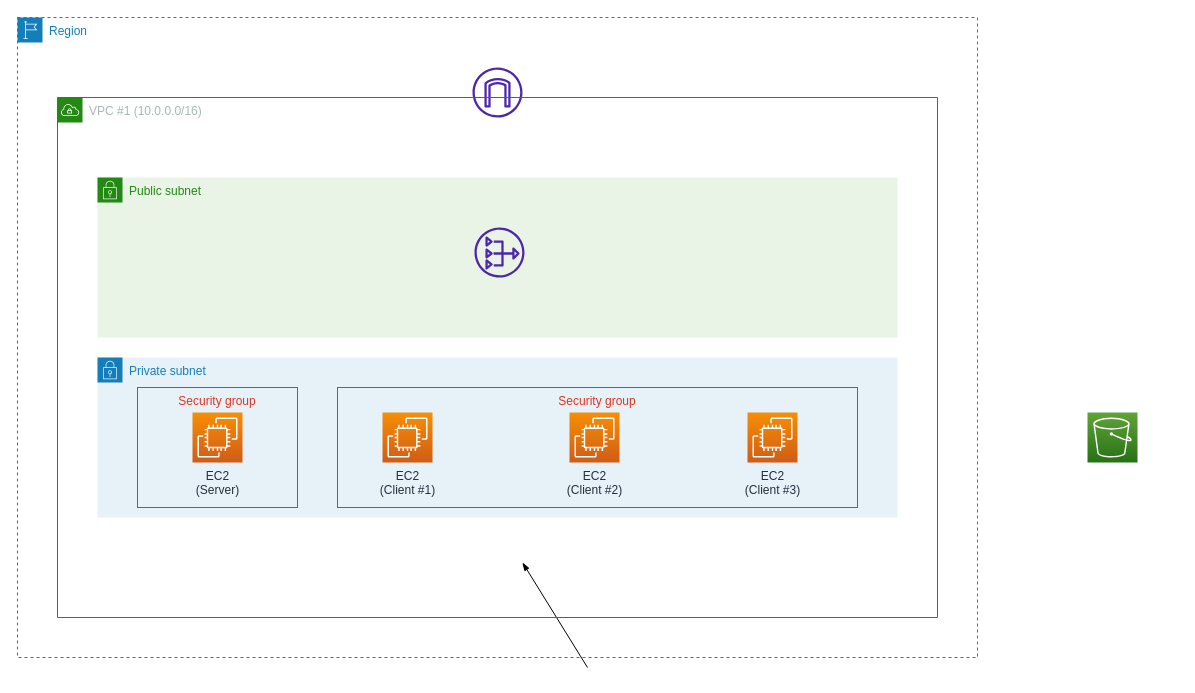
This 1195x693 diagram has some shape labels left out. The shapes that lost their labels are listed below. From the top down, each one's centre as x and y in pixels, then its label:
(497,92): Internet Gateway
(499,252): NAT Gateway
(1112,437): Capture Transfer Bucket
